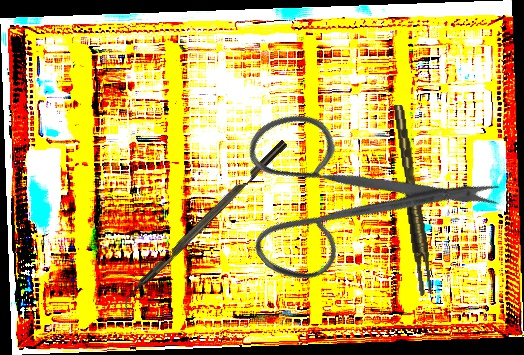Chopper: (113, 139, 296, 317)
Iris Scissors: (196, 32, 512, 344)
Tissue Forceps: (394, 103, 433, 297)
